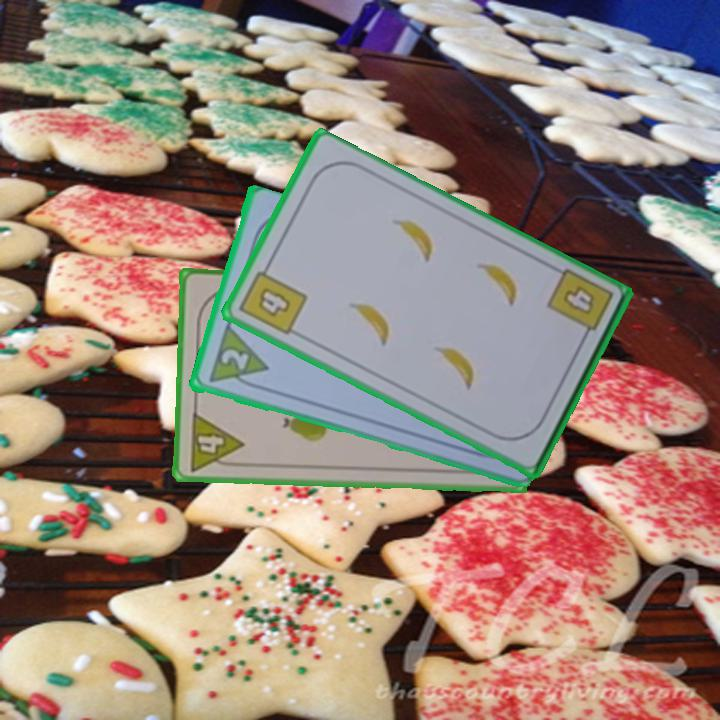2p: (204, 323, 271, 393)
4b: (235, 259, 311, 339), (543, 265, 616, 346)
4p: (185, 409, 246, 474)
